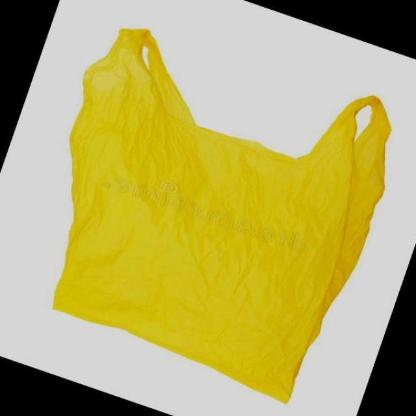Plastic Bag: (51, 28, 391, 402)
